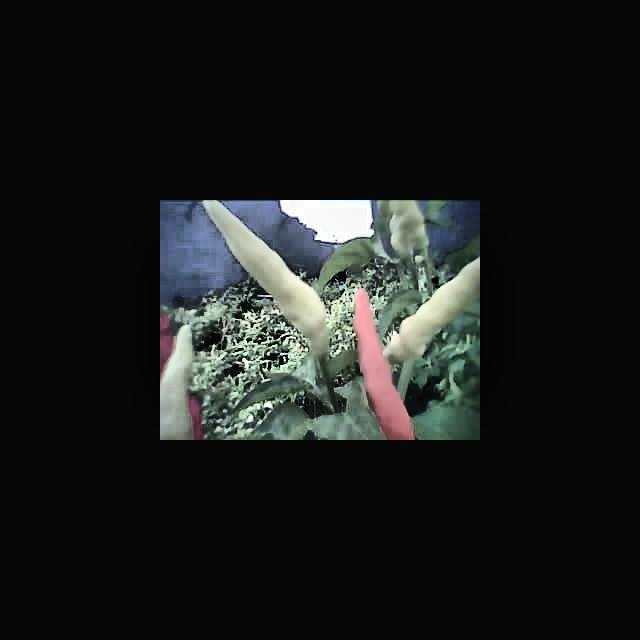Cabai: (351, 292, 387, 440)
